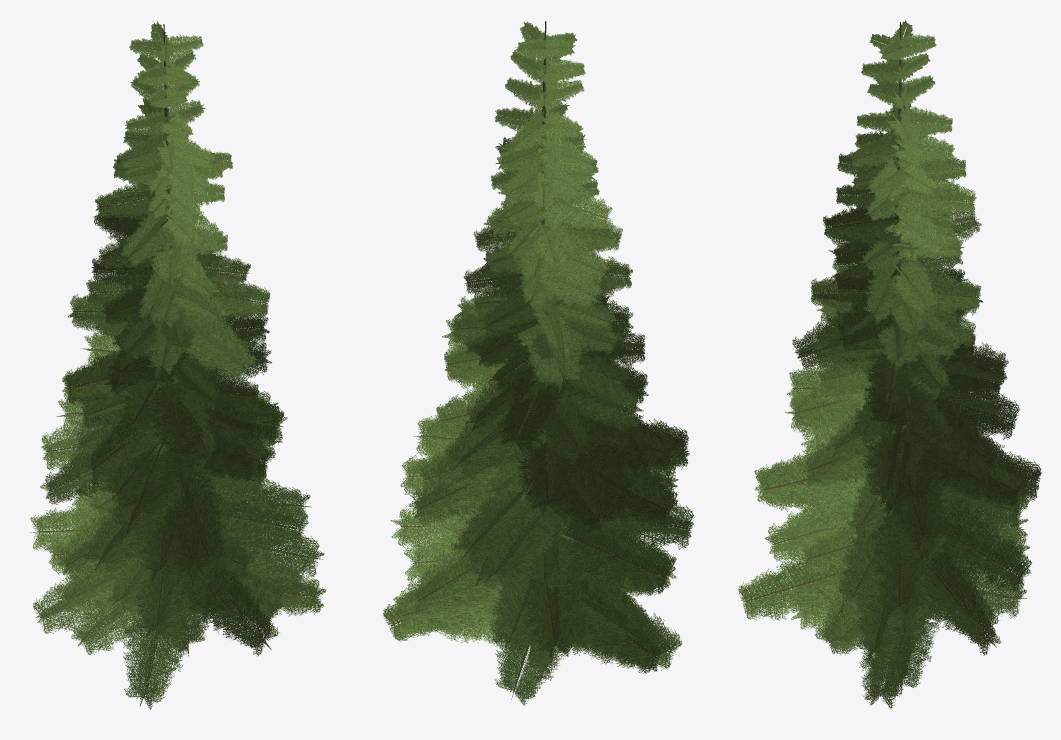
File: tree_spruce_v0_l0.glb
3 renders of one model, left to right at view 1: azimuth 30°, elevation 25°; view 2: azimuth 150°, elevation 25°; view 3: azimuth 270°, elevation 25°, orthographic. The views are drawn at different scales.
Visible parts, largest first — view 1: tree_spruce_v0_l0; view 2: tree_spruce_v0_l0; view 3: tree_spruce_v0_l0.
Boxes of the visible parts, x1,y1,x2,y2 form: tree_spruce_v0_l0: (30, 21, 326, 709); tree_spruce_v0_l0: (383, 21, 694, 705); tree_spruce_v0_l0: (738, 20, 1041, 708).
Size of the model in its own units: 6.29 by 13.67 by 5.98.
Materials: 2 (2 with a texture image).
